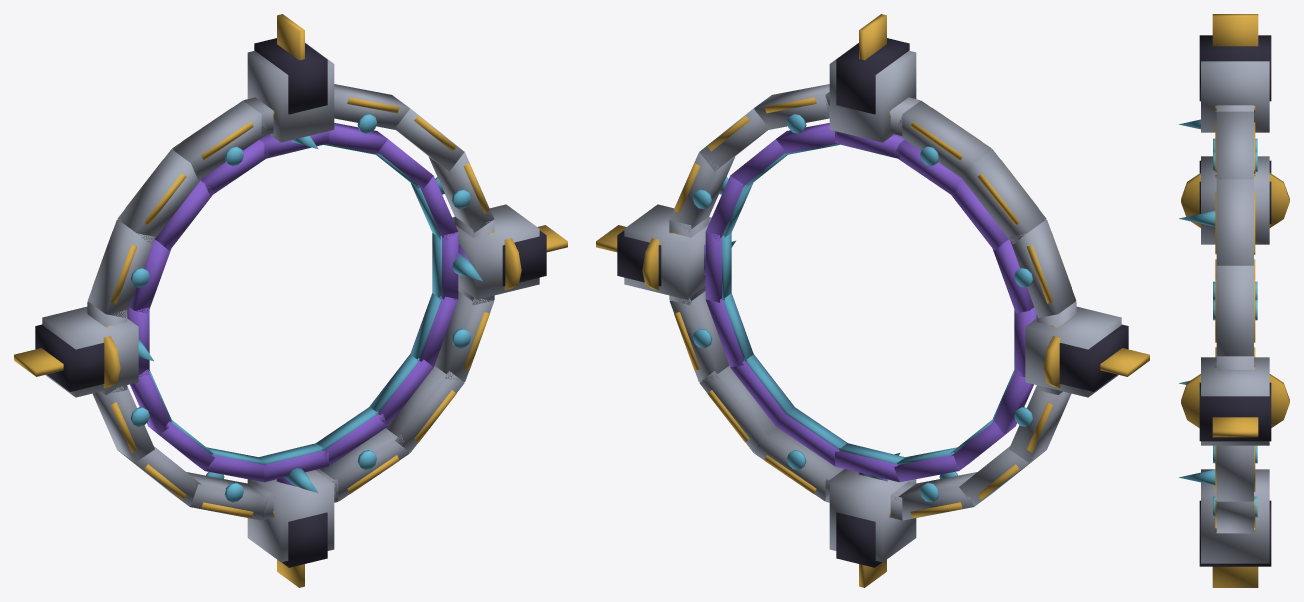
Rendered from warp_gate.glb.
3 renders of one model, left to right at view 1: azimuth 30°, elevation 25°; view 2: azimuth 150°, elevation 25°; view 3: azimuth 270°, elevation 25°, orthographic. The views are drawn at different scales.
Parts seen in each view (by area): view 1: warp_gate; view 2: warp_gate; view 3: warp_gate.
Boxes of the visible parts, x1,y1,x2,y2 form: warp_gate: (14, 14, 567, 587); warp_gate: (596, 14, 1149, 587); warp_gate: (1178, 14, 1289, 587).
Bounding box in the file's own units: 11 × 11 × 1.95.
